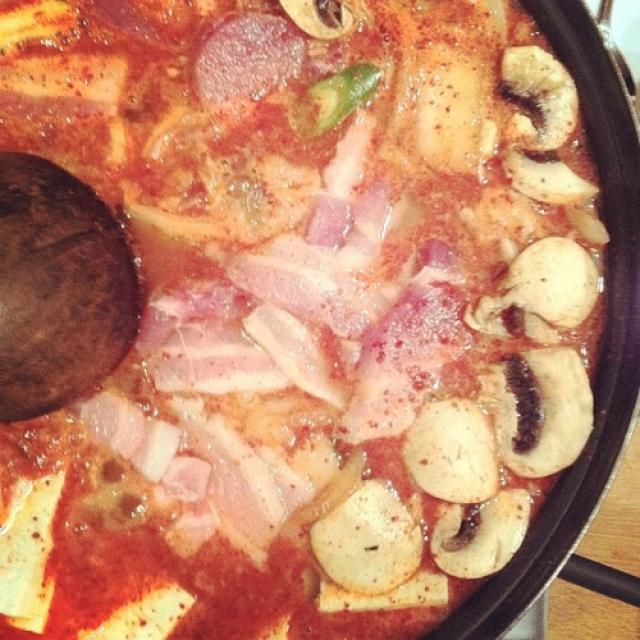汤锅炖物: (1, 2, 612, 628)
